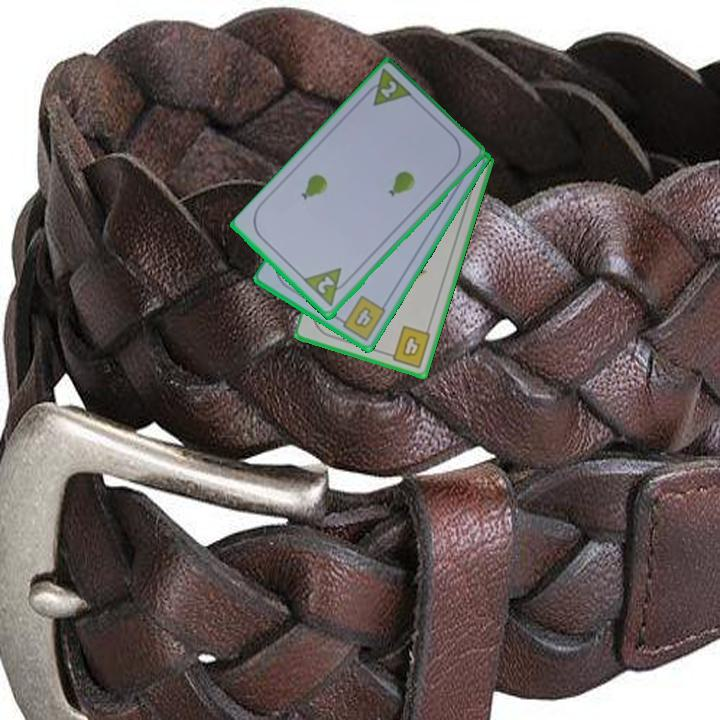2p: (359, 66, 416, 110), (314, 273, 337, 297)
4b: (334, 292, 389, 344), (382, 322, 434, 371)
